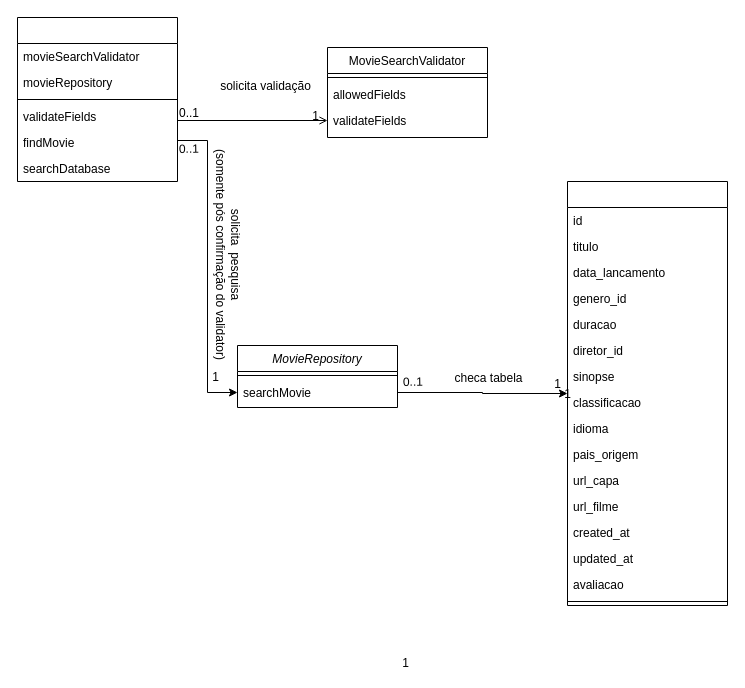
The diagram is 745 pixels wide and 688 high, and some of its shapes have lost their labels. The shapes that lost their labels are listed below. From the top down, each one's box as (x1, y1, x2, y2) in pixels, then its label:
(16, 16, 178, 182): MovieSearchController
(566, 180, 728, 606): FilmeModel
